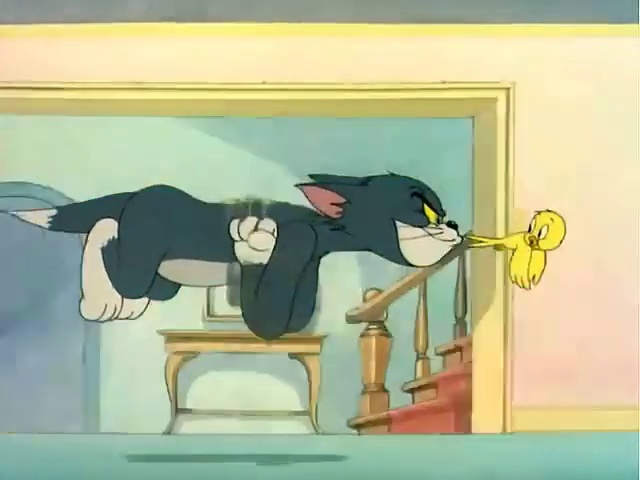tom: (20, 149, 468, 366)
